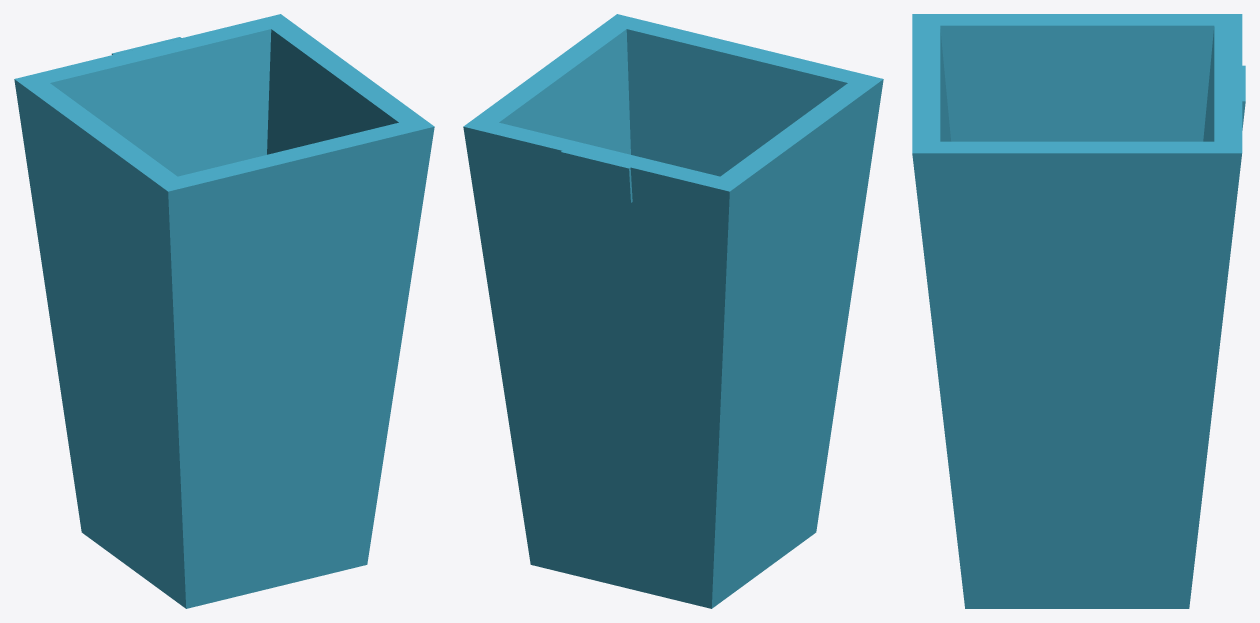
File: Itr_Trashcan1_Body_05.FBX
3 renders of one model, left to right at view 1: azimuth 30°, elevation 25°; view 2: azimuth 150°, elevation 25°; view 3: azimuth 270°, elevation 25°, orthographic. The views are drawn at different scales.
Parts seen in each view (by area): view 1: Itr_Trashcan1_Body_05; view 2: Itr_Trashcan1_Body_05; view 3: Itr_Trashcan1_Body_05.
Boxes of the visible parts, box(x1,y1,x2,y2) form: Itr_Trashcan1_Body_05: box(14, 14, 434, 608); Itr_Trashcan1_Body_05: box(463, 14, 883, 608); Itr_Trashcan1_Body_05: box(912, 14, 1245, 608).
Size of the model in its own units: 14.85 by 23.74 by 15.01.
